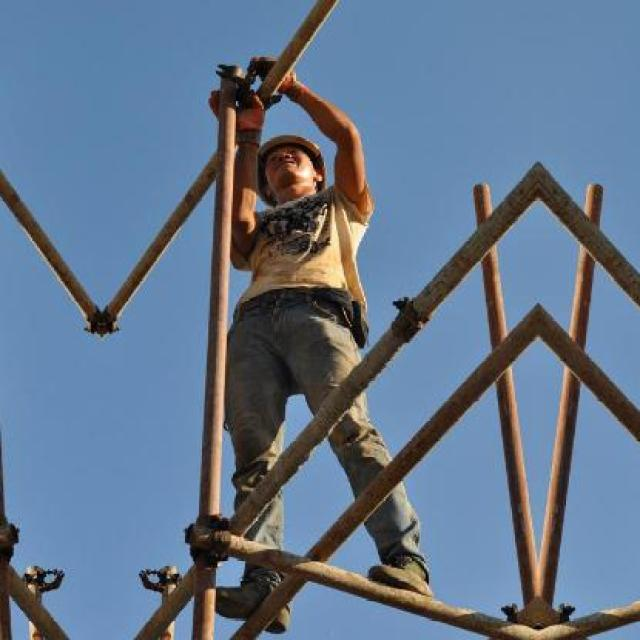helmet: (236, 96, 345, 221)
